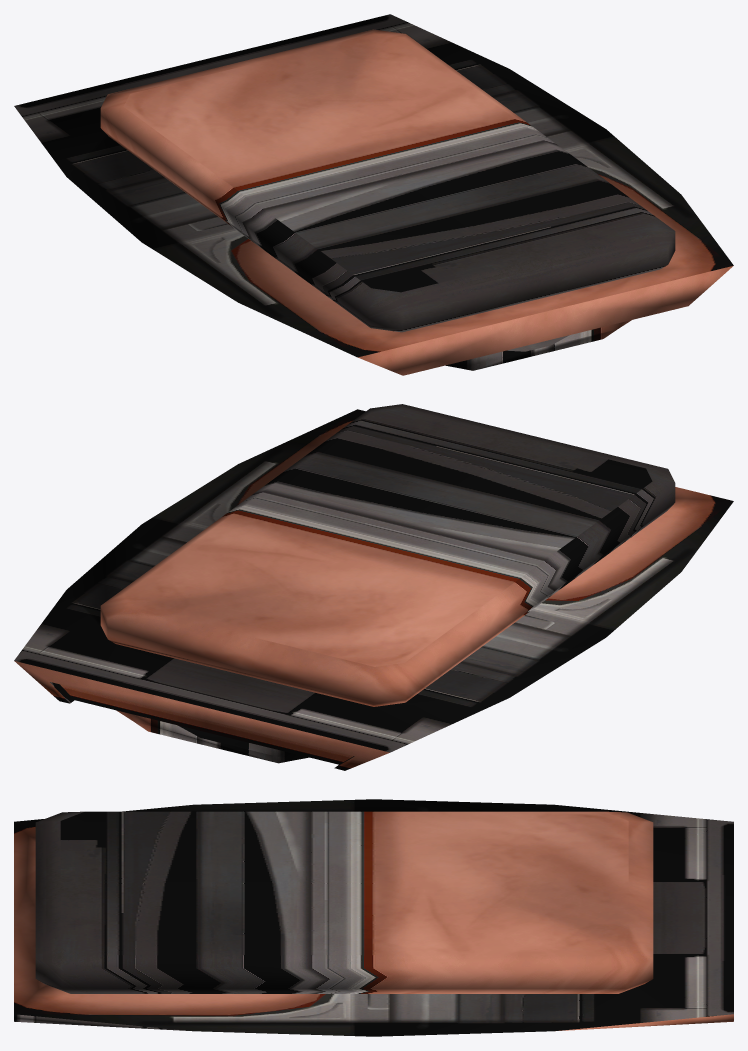
File: bed2.glb
3 renders of one model, top to bottom at view 1: azimuth 30°, elevation 25°; view 2: azimuth 150°, elevation 25°; view 3: azimuth 270°, elevation 25°, orthographic. The views are drawn at different scales.
Visible parts, largest first — view 1: Box30; view 2: Box30; view 3: Box30.
Boxes of the visible parts, x1=… form: Box30: x1=14, y1=14, x2=733, y2=375; Box30: x1=14, y1=404, x2=733, y2=770; Box30: x1=14, y1=799, x2=733, y2=1036.
Bounding box in the file's own units: 113 × 18.99 × 145.
Materials: 1 (1 with a texture image).
